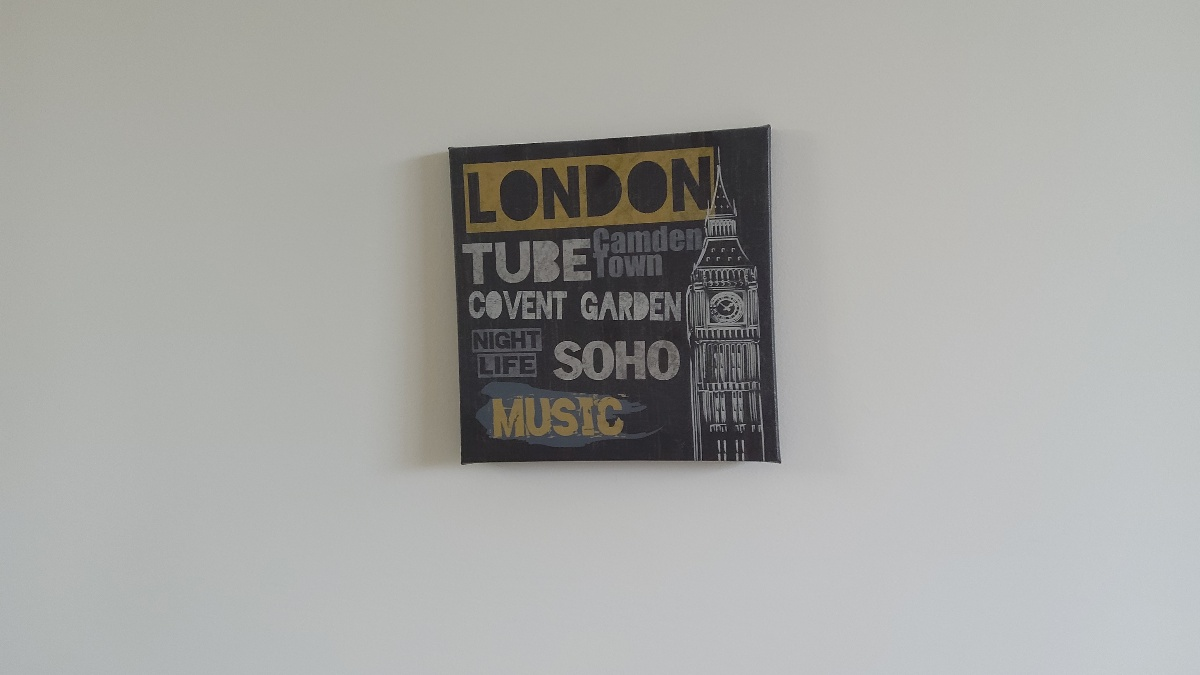poster: (437, 127, 792, 470)
